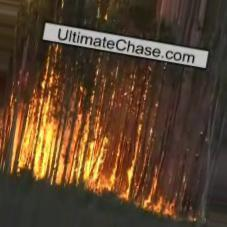fire: (3, 47, 187, 219)
